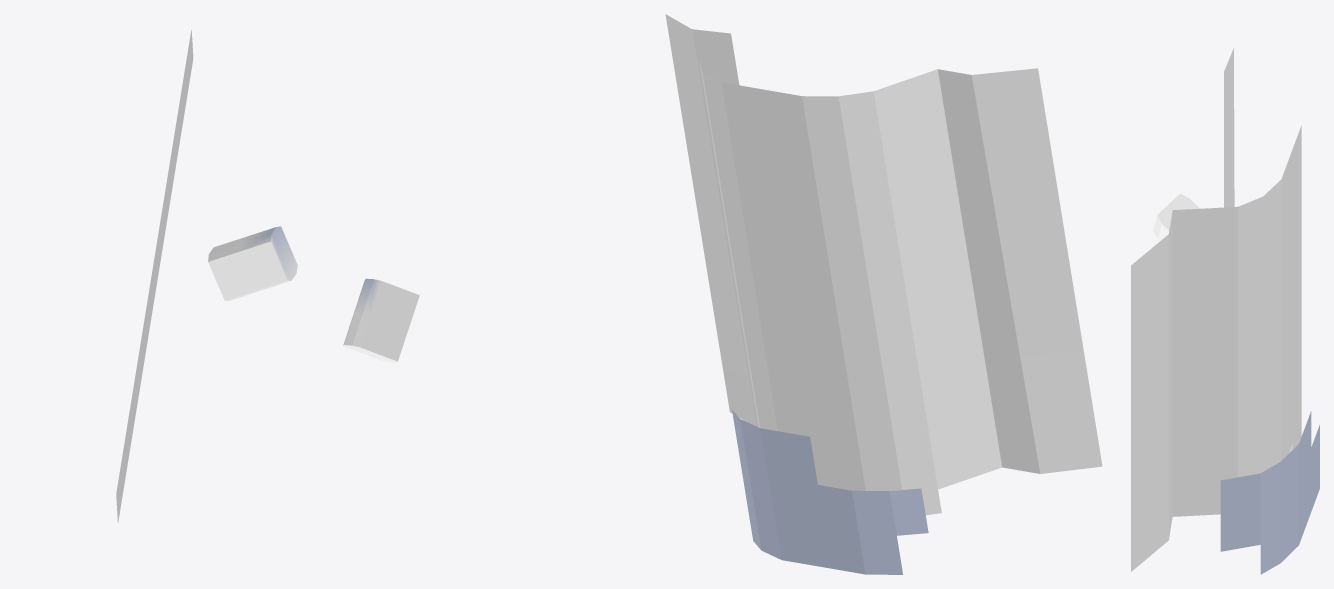
3 views of the same model, side by side, from view 1: azimuth 30°, elevation 25°; view 2: azimuth 150°, elevation 25°; view 3: azimuth 270°, elevation 25° (orthographic). The views are drawn at different scales.
Visible parts, largest first — view 1: object0; view 2: object0; view 3: object0.
Boxes of the visible parts, x1,y1,x2,y2 form: object0: [116, 29, 419, 522]; object0: [665, 14, 1102, 574]; object0: [1131, 48, 1319, 574].
Bounding box in the file's own units: 24190 × 24628 × 9343.
